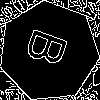B: (24, 26, 78, 73)
